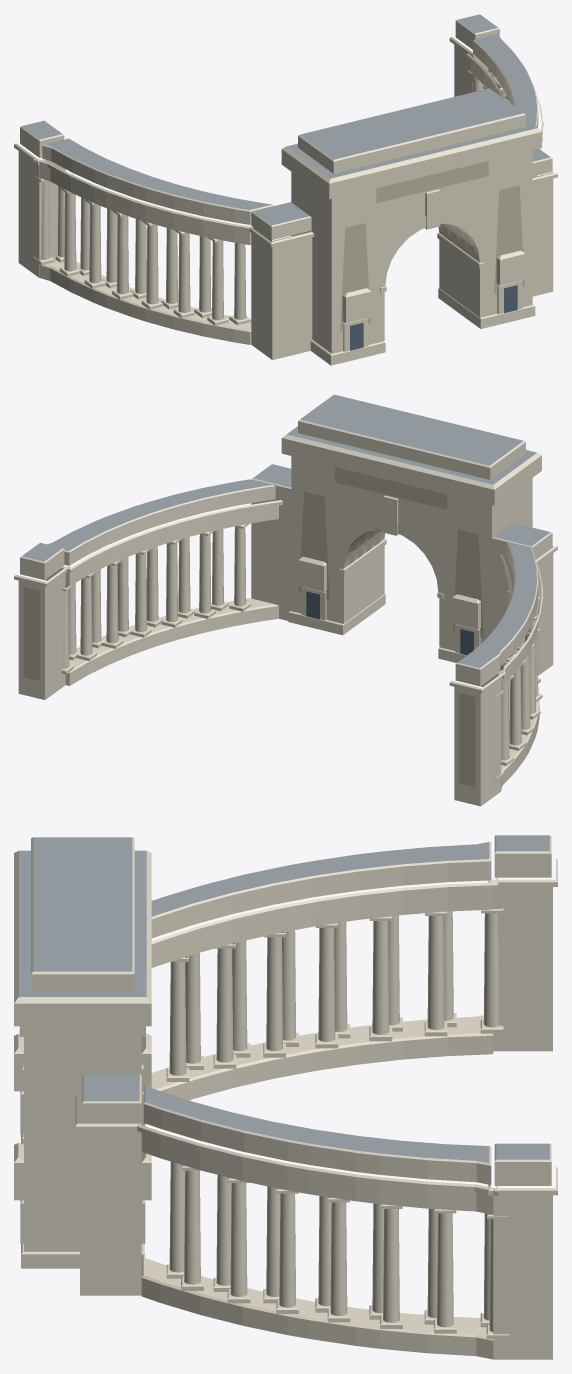
The model's file is nyc-manhattan-bridge-arch.glb.
3 renders of one model, top to bottom at view 1: azimuth 30°, elevation 25°; view 2: azimuth 150°, elevation 25°; view 3: azimuth 270°, elevation 25°, orthographic. The views are drawn at different scales.
Visible parts, largest first — view 1: Manhattan Bridge Arch and Colonnade; view 2: Manhattan Bridge Arch and Colonnade; view 3: Manhattan Bridge Arch and Colonnade.
Boxes of the visible parts, bbox=[...] form: Manhattan Bridge Arch and Colonnade: bbox=[14, 14, 557, 365]; Manhattan Bridge Arch and Colonnade: bbox=[14, 394, 557, 806]; Manhattan Bridge Arch and Colonnade: bbox=[14, 835, 557, 1359].
Bounding box in the file's own units: 55.34 × 22.6 × 38.18.
